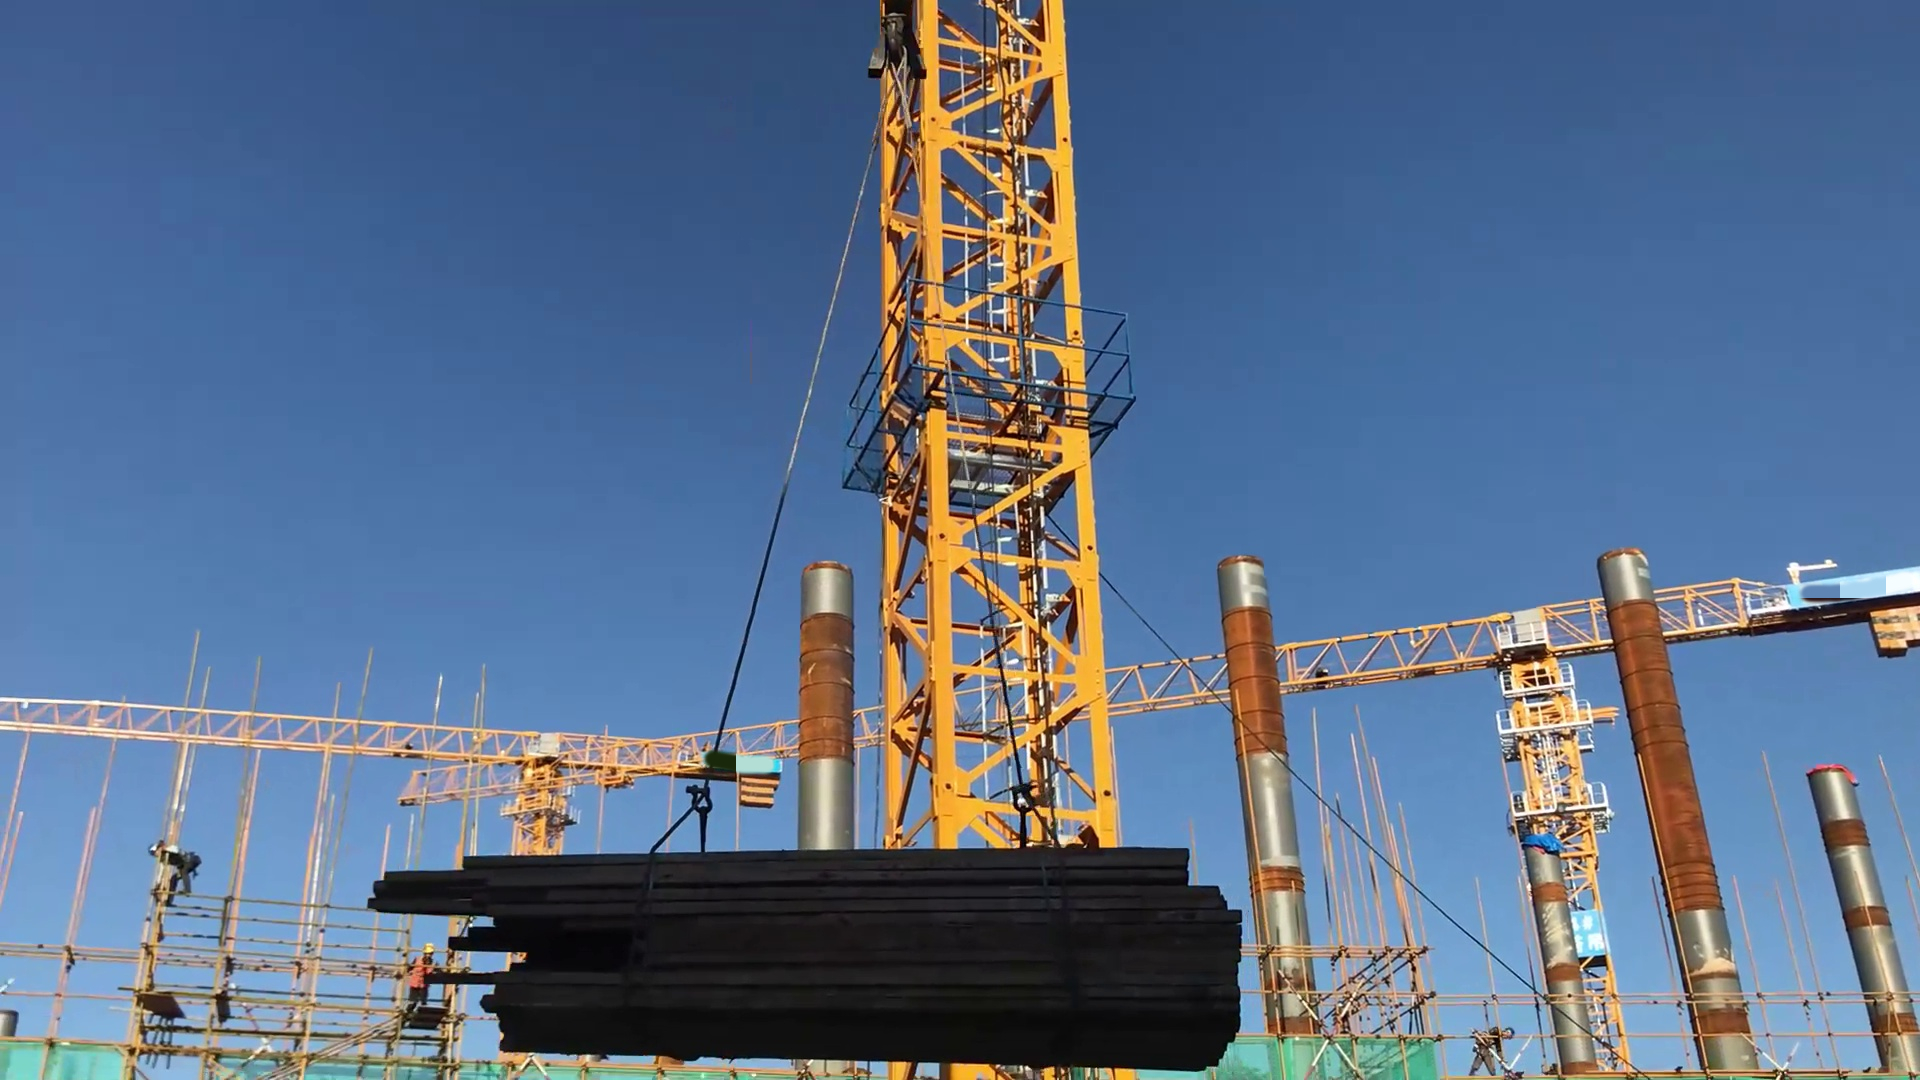helmet: (421, 943, 436, 957)
person: (1471, 1013, 1512, 1080), (403, 940, 436, 1006)
vest: (405, 956, 431, 990)
